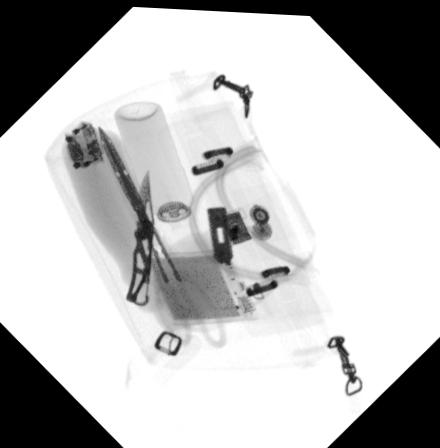Knife: (121, 164, 154, 307)
Powerbank: (138, 244, 259, 322)
Scissors: (95, 118, 227, 347)
Sprayer: (113, 97, 205, 240)
